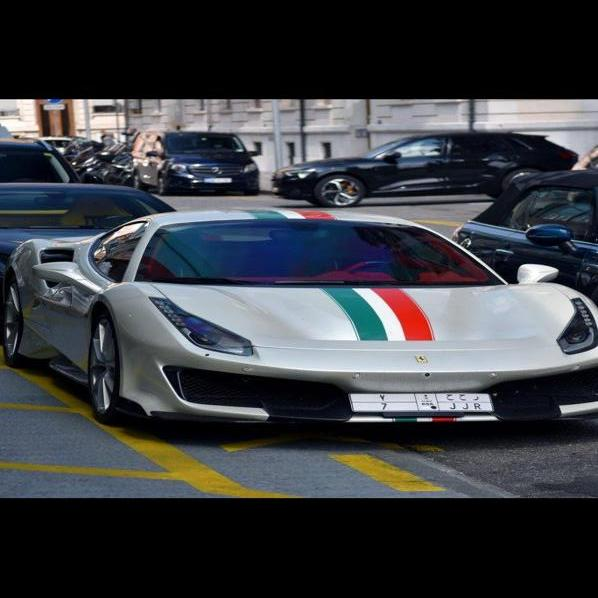numberplate: (345, 388, 498, 413)
